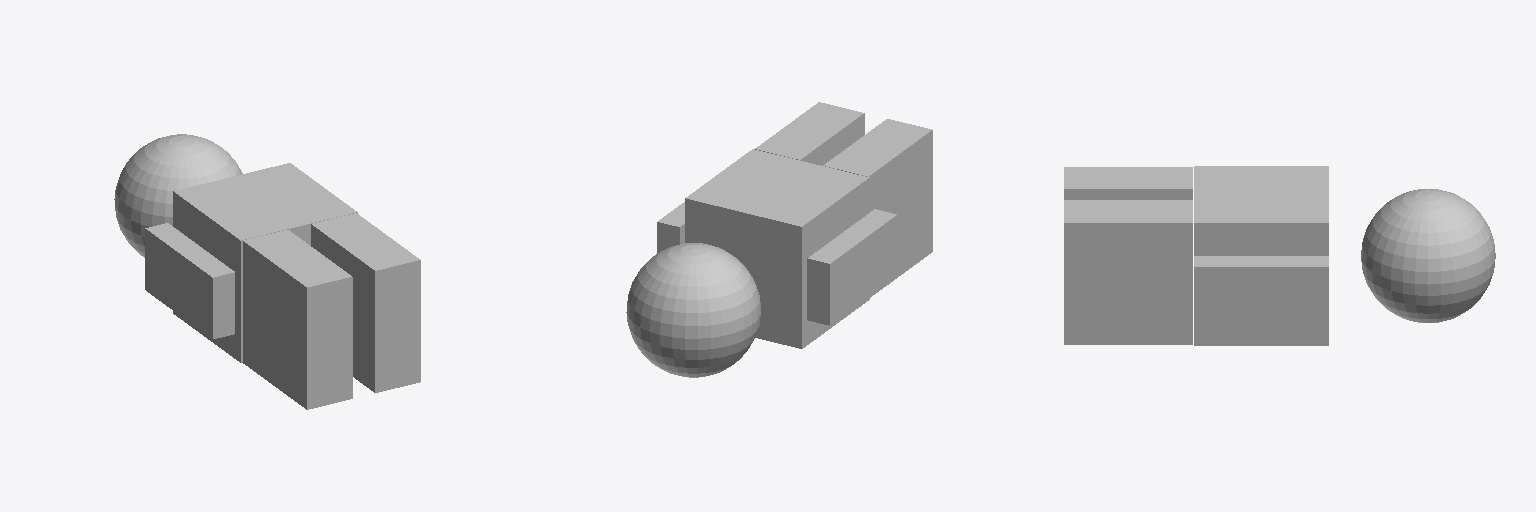
The model's file is rocky_robot_animation_000004.obj.
3 renders of one model, left to right at view 1: azimuth 30°, elevation 25°; view 2: azimuth 150°, elevation 25°; view 3: azimuth 270°, elevation 25°, orthographic.
Parts seen in each view (by area): view 1: Cube.001_Cube.005, Cube.002, Cube, Sphere.001, Cube.004; view 2: Cube, Sphere.001, Cube.001_Cube.005, Cube.004, Cube.002, Cube.003; view 3: Cube.002, Cube, Sphere.001, Cube.003, Cube.001_Cube.005.
Boxes of the visible parts, box(x1,y1,x2,y2) form: Cube.001_Cube.005: box(243, 230, 352, 409); Cube.002: box(311, 213, 420, 392); Cube: box(173, 163, 357, 362); Sphere.001: box(114, 134, 242, 257); Cube.004: box(145, 223, 234, 339); Cube: box(685, 149, 869, 348); Sphere.001: box(626, 243, 760, 377); Cube.001_Cube.005: box(823, 119, 932, 297); Cube.004: box(807, 209, 897, 325); Cube.002: box(755, 102, 864, 165); Cube.003: box(657, 202, 684, 253); Cube.002: box(1064, 200, 1192, 344); Cube: box(1194, 166, 1328, 345); Sphere.001: box(1361, 189, 1495, 322); Cube.003: box(1194, 256, 1328, 328); Cube.001_Cube.005: box(1064, 167, 1192, 199).
Bounding box in the file's own units: 0.76 × 0.514 × 1.64.